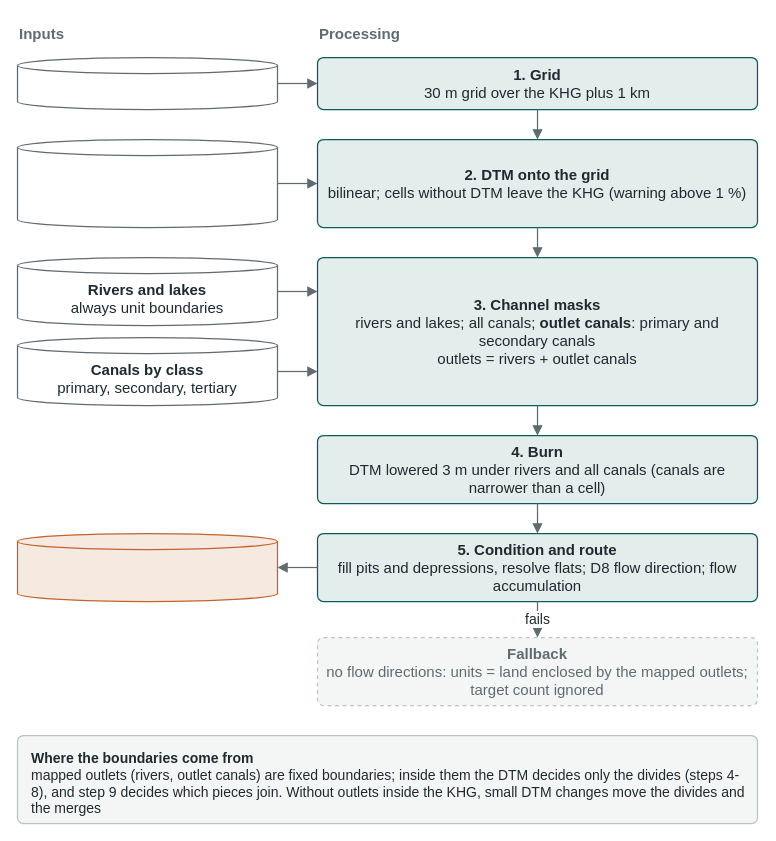
Some shapes in this 776 by 841 pixel diagram are drawn without their labels. Each missing label, with the centre of its shape:
"Flow accumulation grid" goes at (x=147, y=567).
"Ground DTM corrected DTM or LiDAR; a surface model gives wrong catchments" goes at (x=147, y=183).
"KHG boundary" goes at (x=147, y=83).
